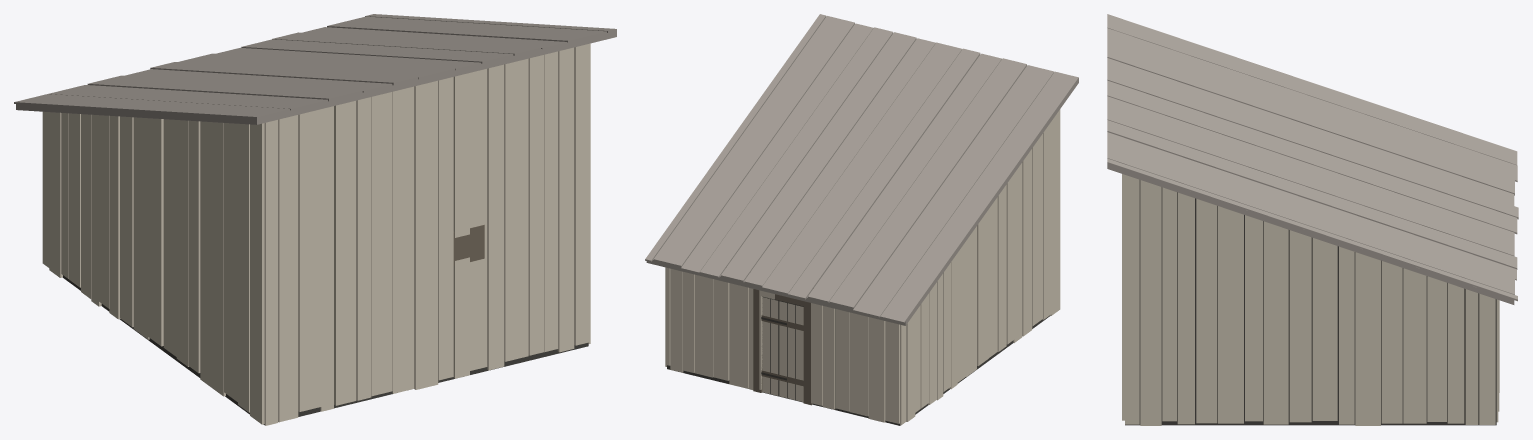
The model's file is recon_1835_blk_randolph_market_d2_09__inferred_1835.glb.
The picture shows the model from 3 angles, left to right: view 1: azimuth 30°, elevation 25°; view 2: azimuth 150°, elevation 25°; view 3: azimuth 270°, elevation 25°; orthographic projection. The views are drawn at different scales.
Visible parts, largest first — view 1: recon_1835_blk_randolph_market_d2_09__inferred_1835; view 2: recon_1835_blk_randolph_market_d2_09__inferred_1835; view 3: recon_1835_blk_randolph_market_d2_09__inferred_1835.
Part boxes in pixels (box(x1,y1,x2,y2)): recon_1835_blk_randolph_market_d2_09__inferred_1835: box(14, 14, 616, 425); recon_1835_blk_randolph_market_d2_09__inferred_1835: box(645, 14, 1078, 425); recon_1835_blk_randolph_market_d2_09__inferred_1835: box(1107, 14, 1518, 425).
Size of the model in its own units: 5.25 by 4.48 by 6.15.
